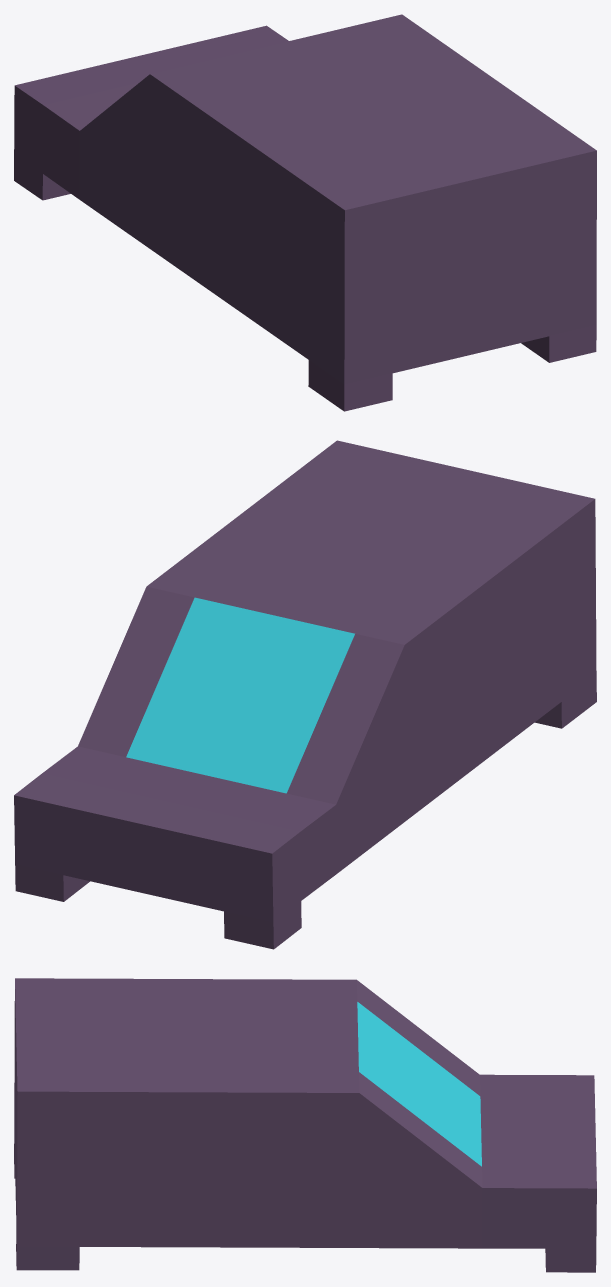
The model's file is 21.Car.fbx.
3 renders of one model, top to bottom at view 1: azimuth 30°, elevation 25°; view 2: azimuth 150°, elevation 25°; view 3: azimuth 270°, elevation 25°, orthographic. The views are drawn at different scales.
Parts seen in each view (by area): view 1: Cube.172; view 2: Cube.172; view 3: Cube.172.
Part boxes in pixels (x1,y1,x2,y2): Cube.172: (14,14,596,411); Cube.172: (14,440,596,949); Cube.172: (14,978,596,1272).
Bounding box in the file's own units: 177 × 136 × 384.
